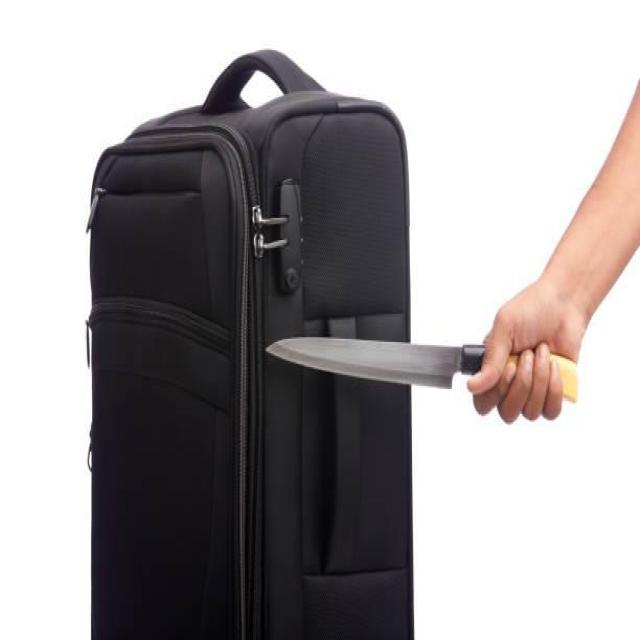faca: (264, 294, 600, 439)
